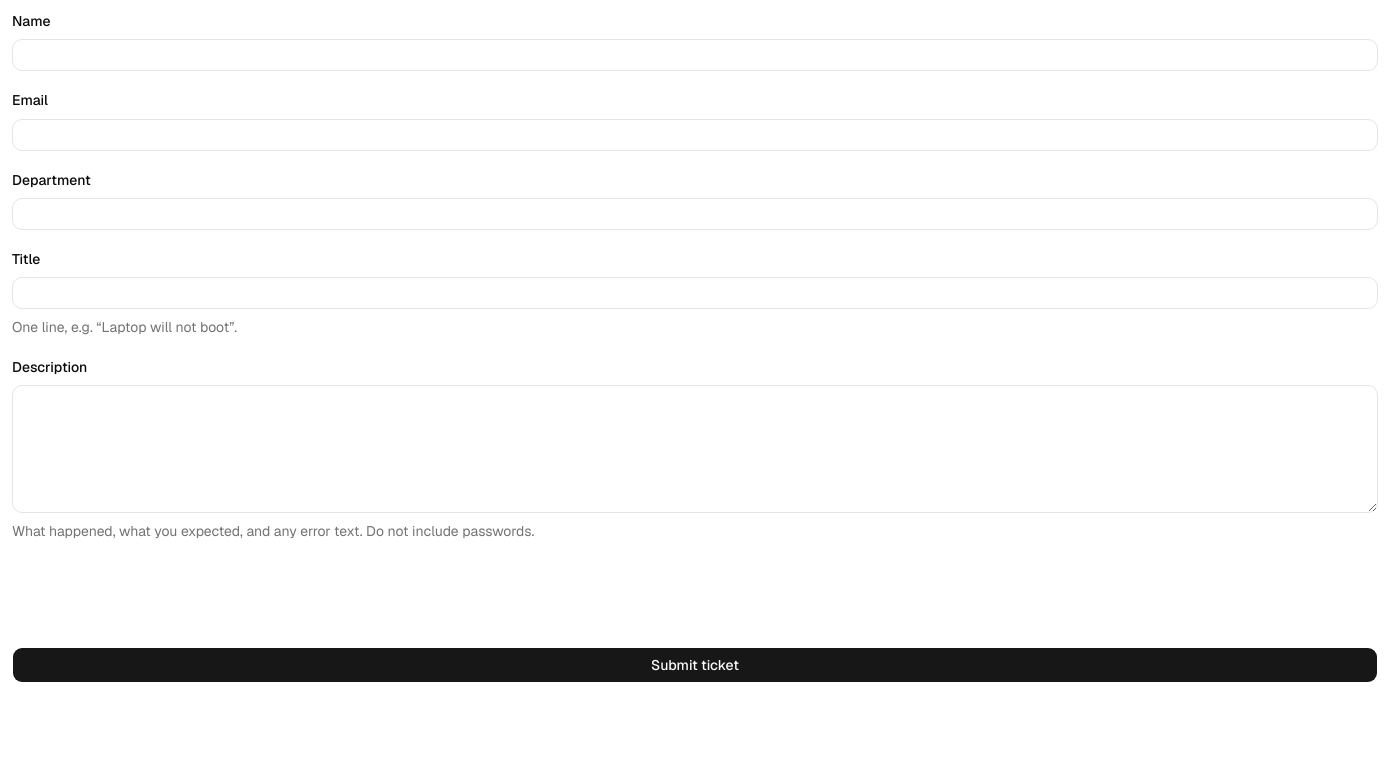
Test case: TicketForm › maps server field errors to fields and gets a new token
This screenshot has width=1390, height=780.
Type "Jo Tester" into the field labelled "Name" at x=695, y=55, box [12,39,1378,71]
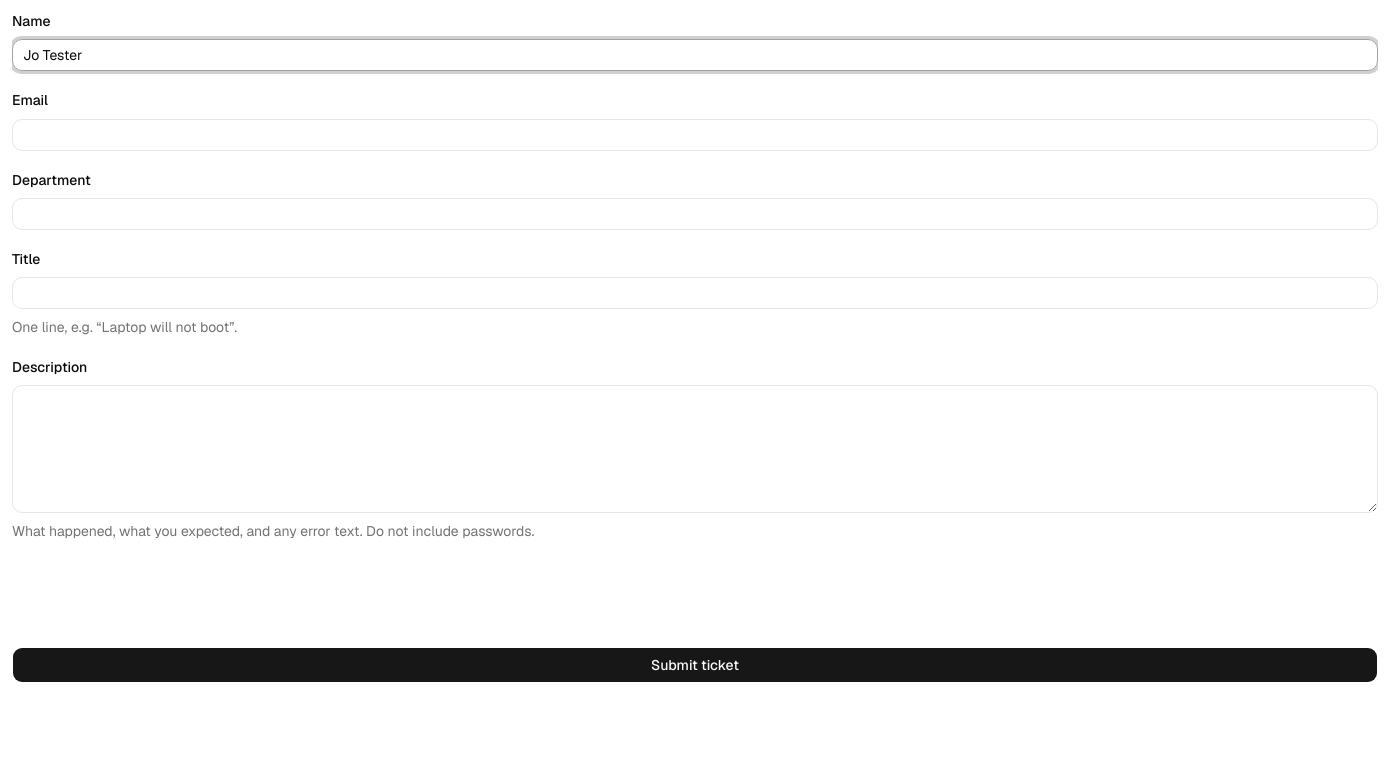
Type "jo@example.com" into the field labelled "Email" at x=695, y=134, box [12,118,1378,150]
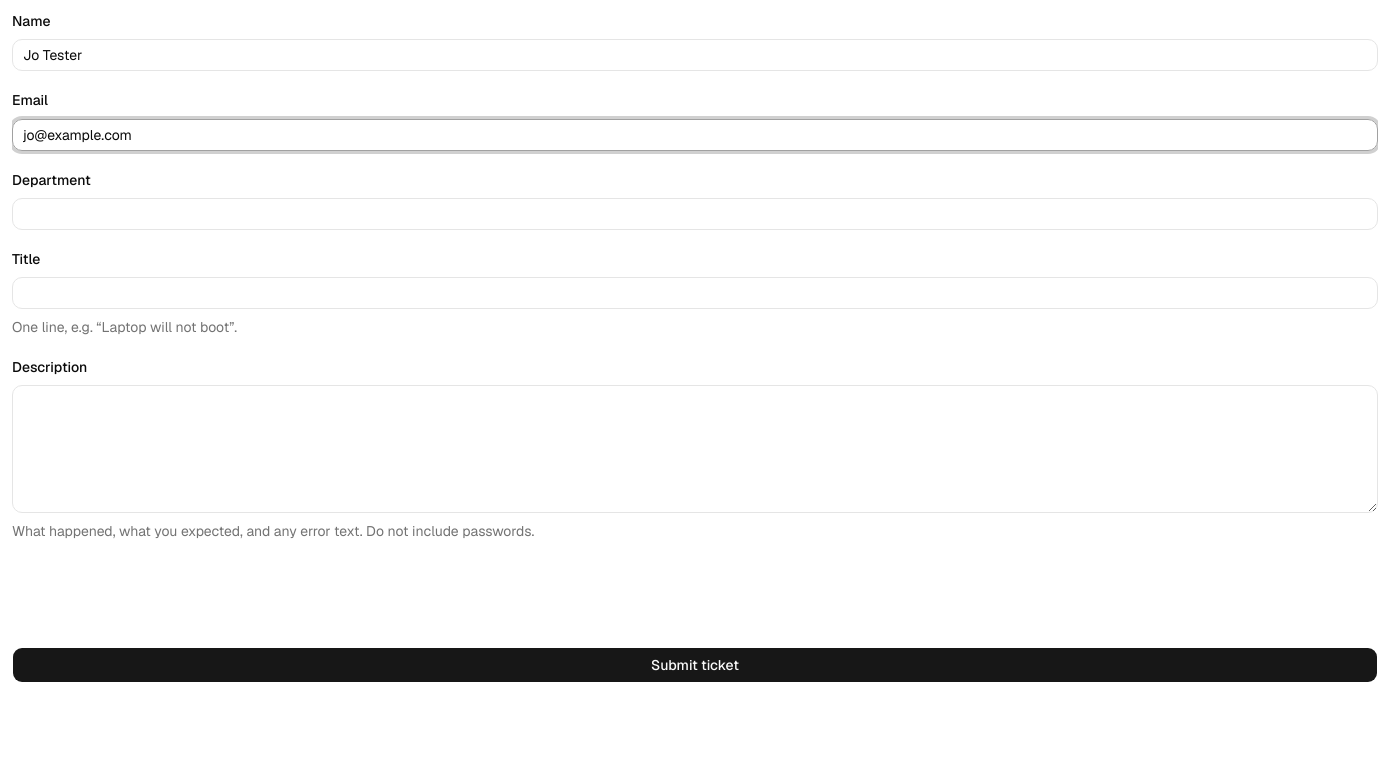
Type "Finance" into the field labelled "Department" at x=695, y=214, box [12,198,1378,230]
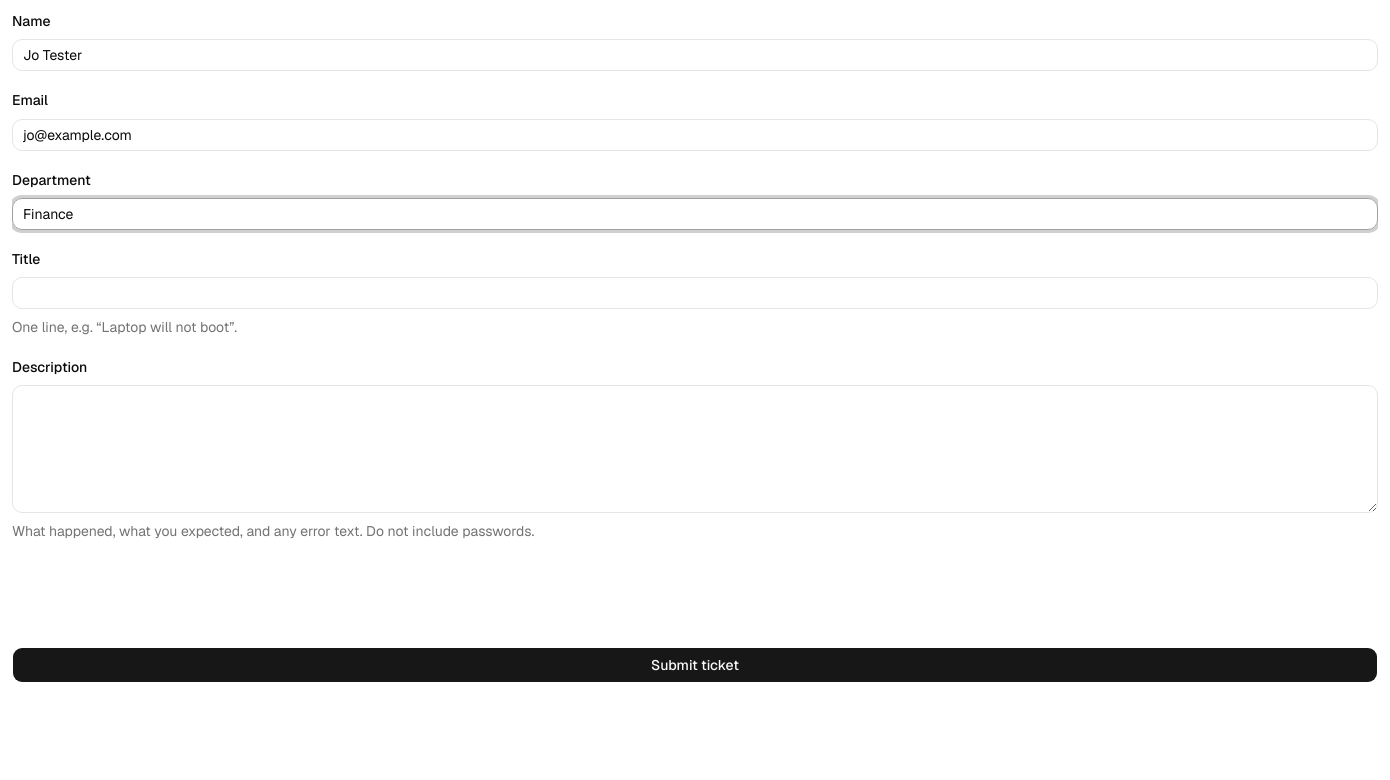
Type "Laptop will not boot" into the field labelled "Title" at x=695, y=293, box [12,277,1378,309]
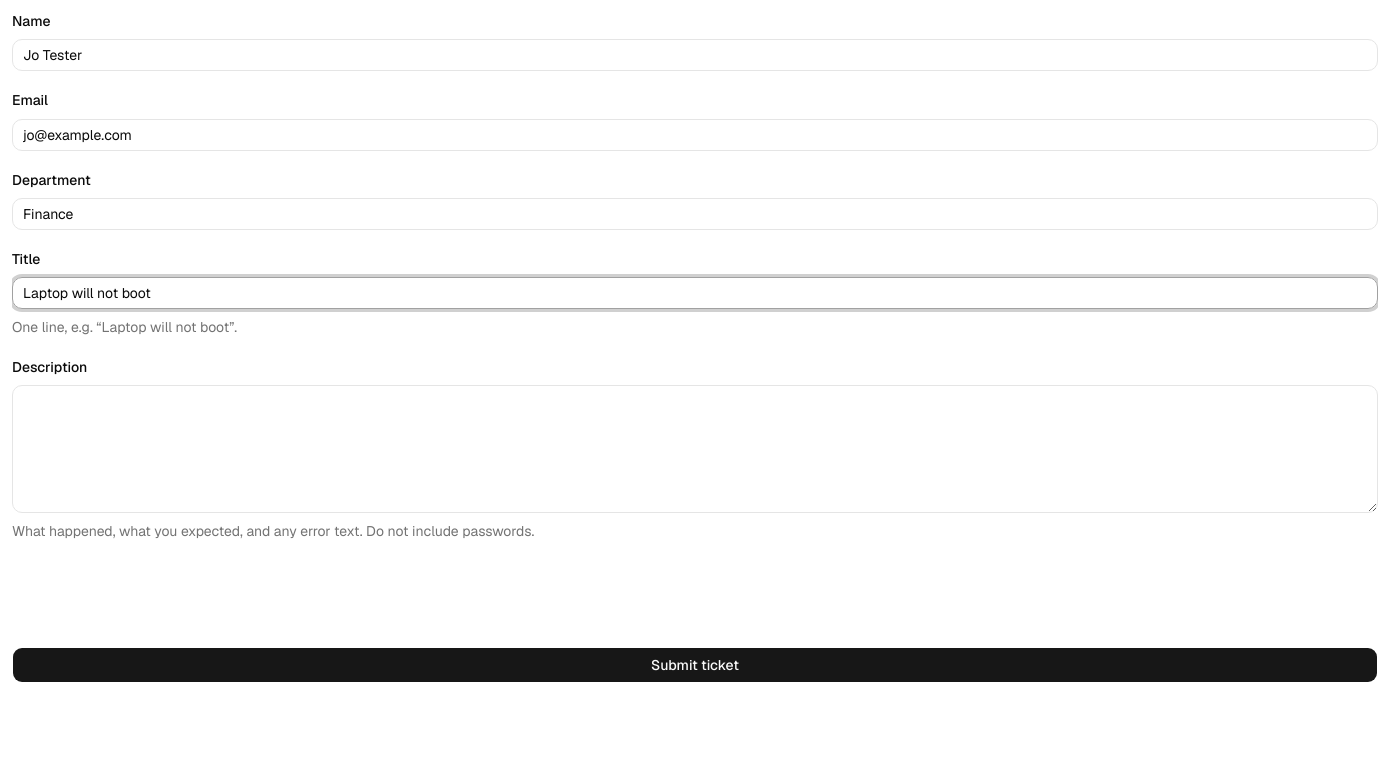
Type "A black screen after the logo." into the text box labelled "Description" at x=695, y=449, box [12,385,1378,513]
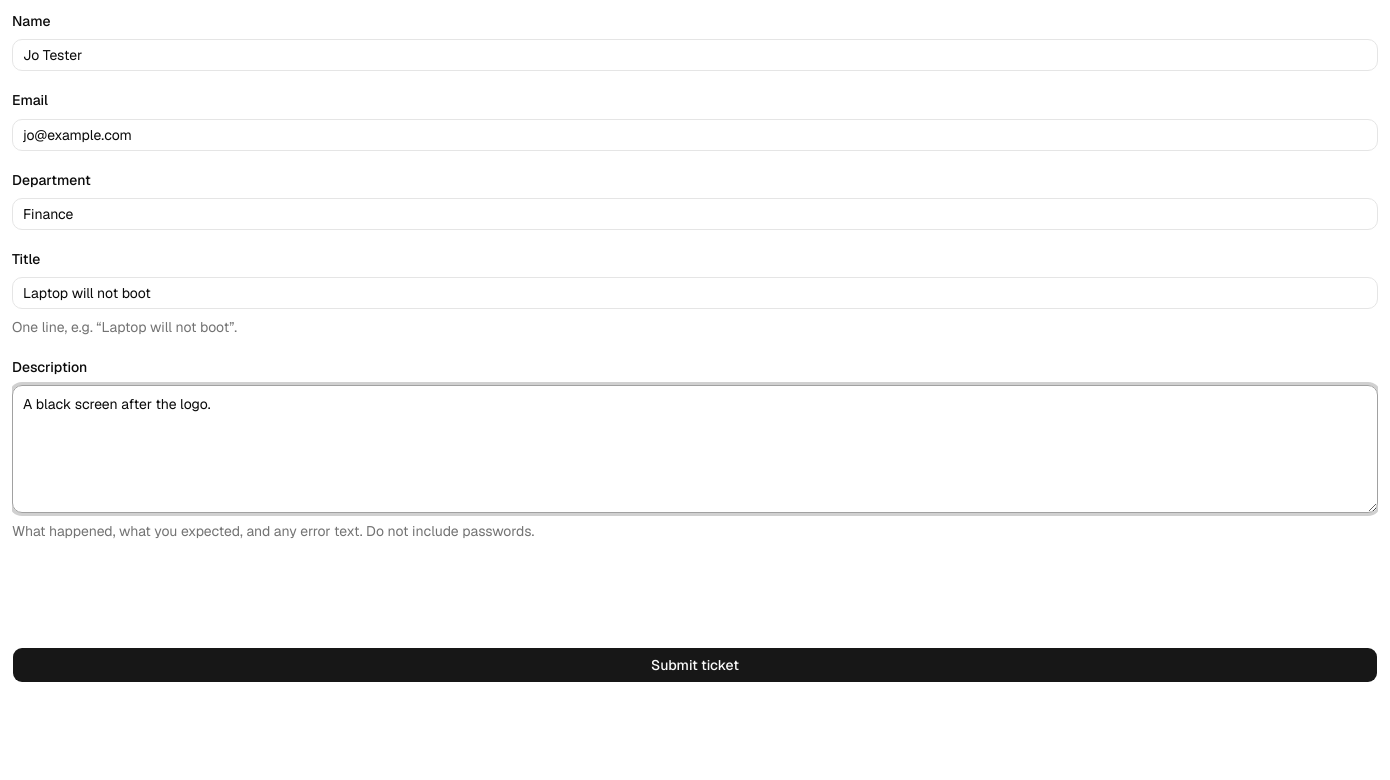
Click the button "Submit ticket" at x=695, y=665, box [12,647,1378,683]
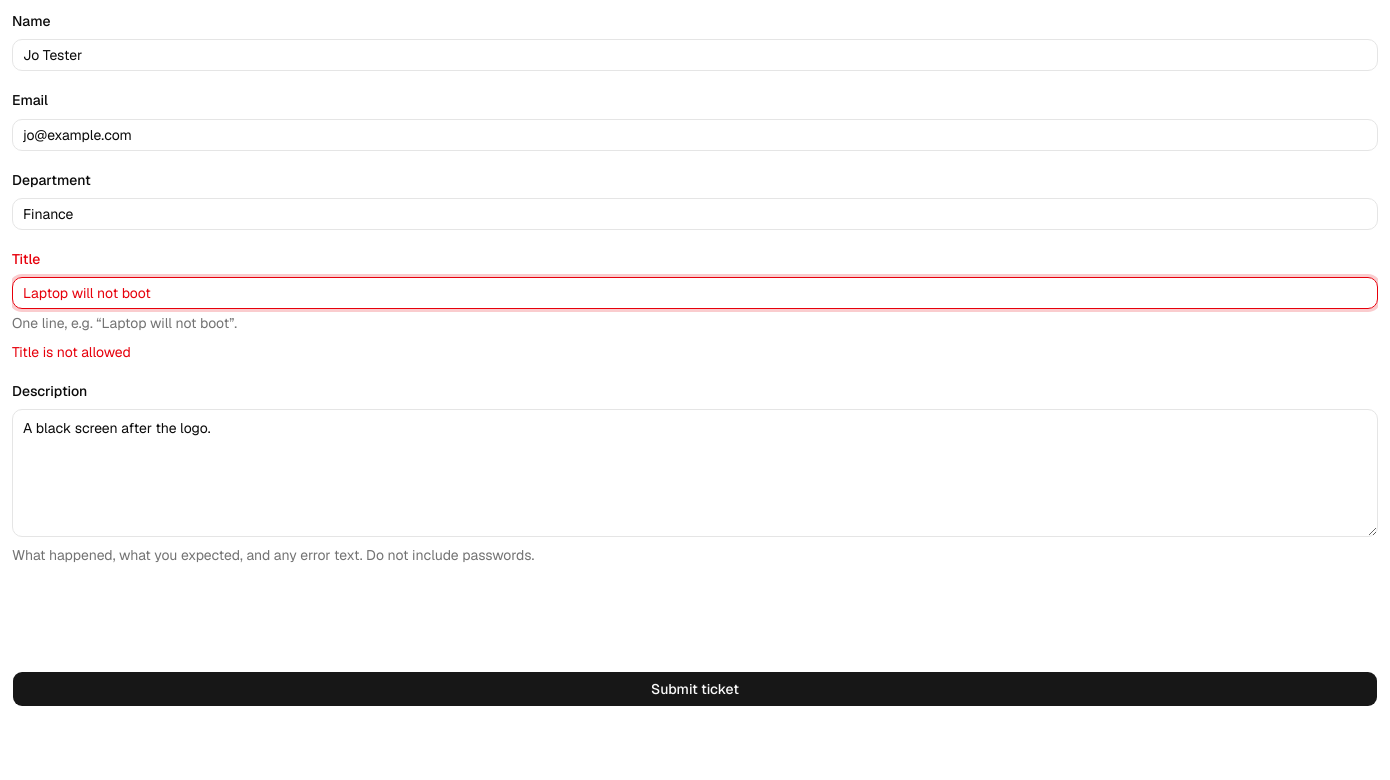
Now the message with id "title-error" reads "Title is not allowed", box [12,343,131,361]
